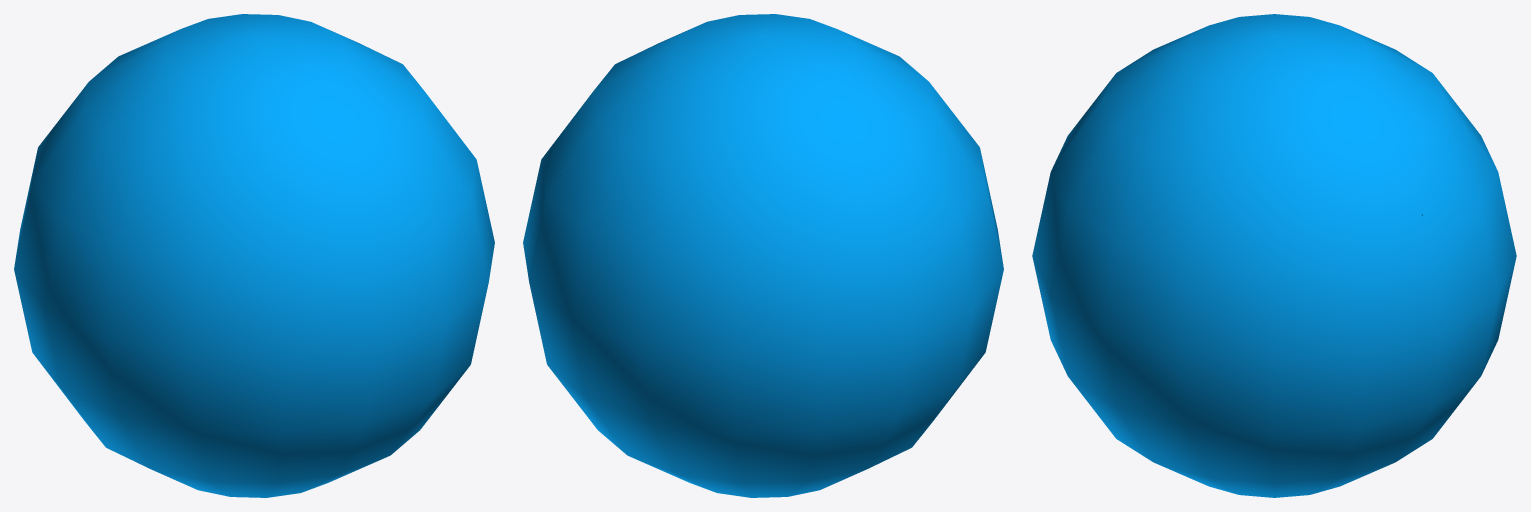
Rendered from Health.obj.
The picture shows the model from 3 angles, left to right: view 1: azimuth 30°, elevation 25°; view 2: azimuth 150°, elevation 25°; view 3: azimuth 270°, elevation 25°; orthographic projection.
Parts seen in each view (by area): view 1: Sphere; view 2: Sphere; view 3: Sphere.
Boxes of the visible parts, bbox=[...] form: Sphere: bbox=[14, 14, 494, 497]; Sphere: bbox=[523, 14, 1003, 497]; Sphere: bbox=[1032, 14, 1516, 497].
Size of the model in its own units: 2 by 2 by 2.
